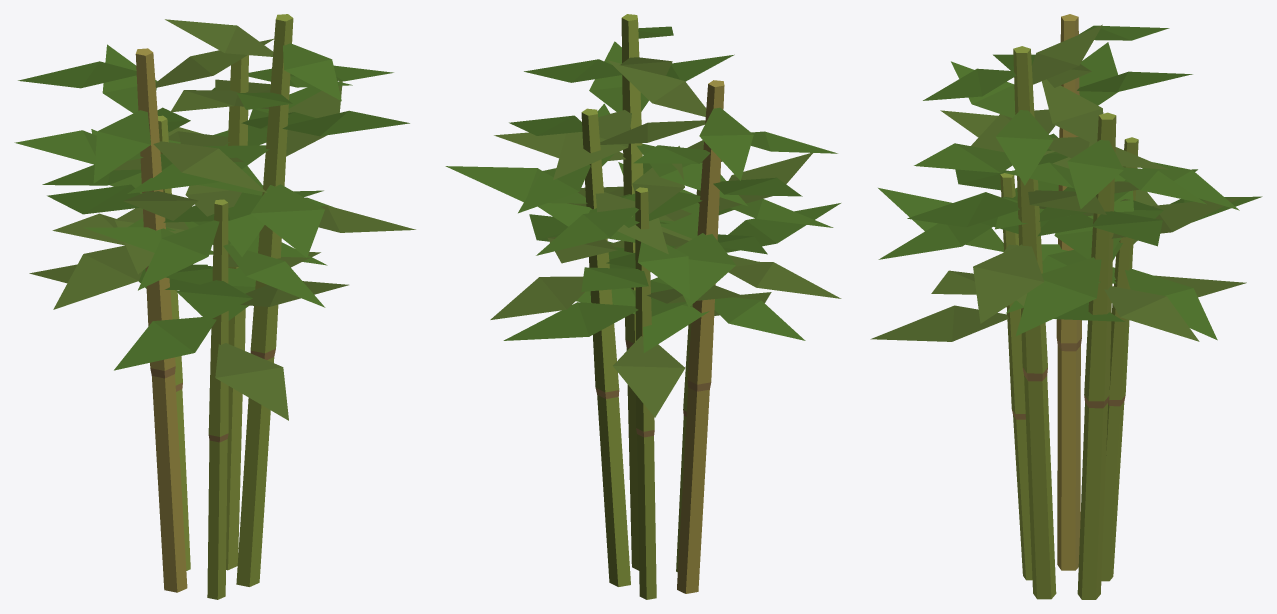
File: E2_bamboo_b.glb
3 renders of one model, left to right at view 1: azimuth 30°, elevation 25°; view 2: azimuth 150°, elevation 25°; view 3: azimuth 270°, elevation 25°, orthographic. The views are drawn at different scales.
Visible parts, largest first — view 1: E2_bamboo_b; view 2: E2_bamboo_b; view 3: E2_bamboo_b.
Part boxes in pixels (x1=…): E2_bamboo_b: x1=14, y1=14, x2=415, y2=599; E2_bamboo_b: x1=445, y1=14, x2=841, y2=599; E2_bamboo_b: x1=870, y1=14, x2=1262, y2=599.
Size of the model in its own units: 2.16 by 3.3 by 2.11.
